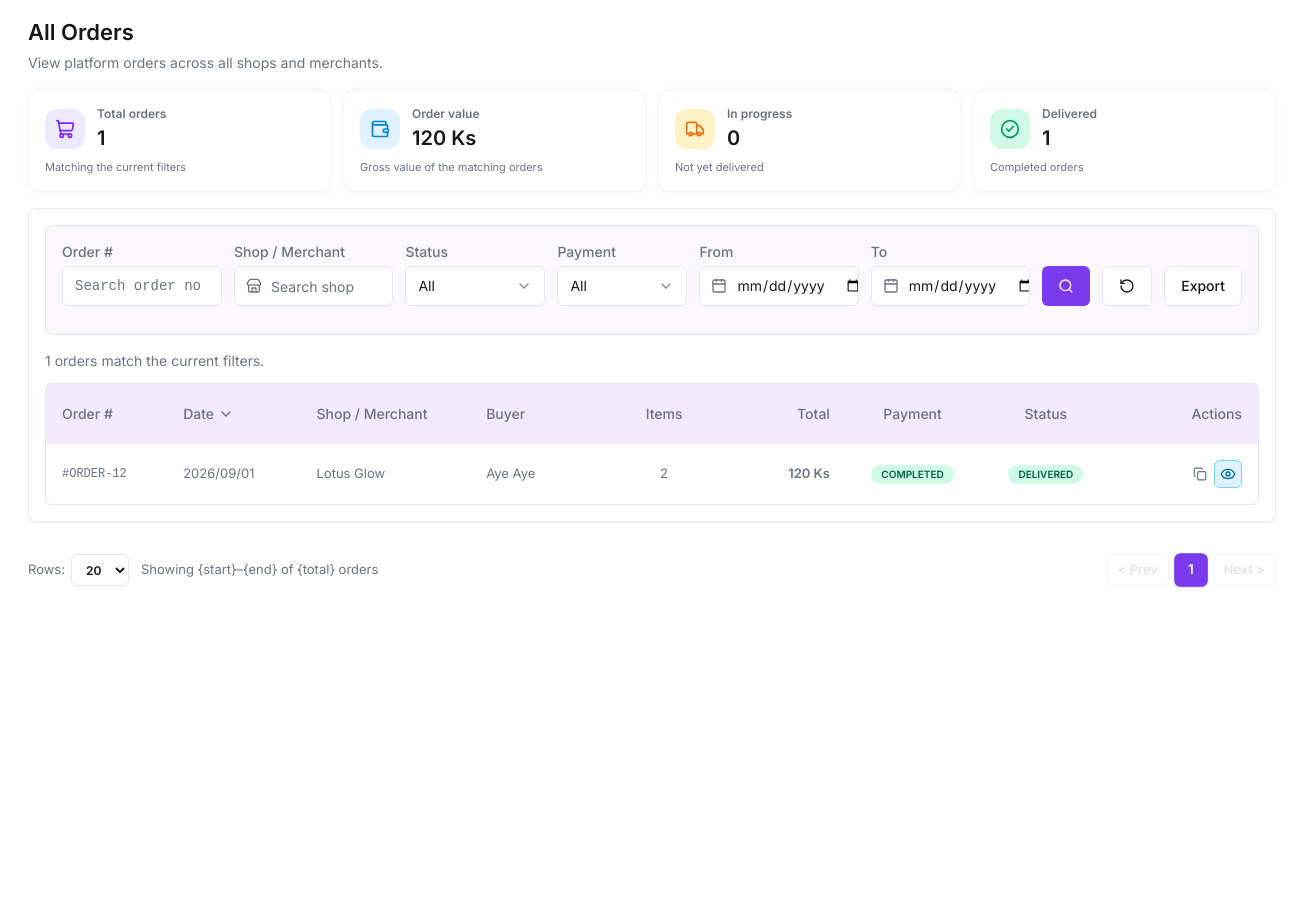
Test case: AdminOrdersPage › narrows the list by order number so the copied value has a destination
In the field labelled "Order #": x=142, y=286 [62,266,222,306], type "#A1B2C3D4"
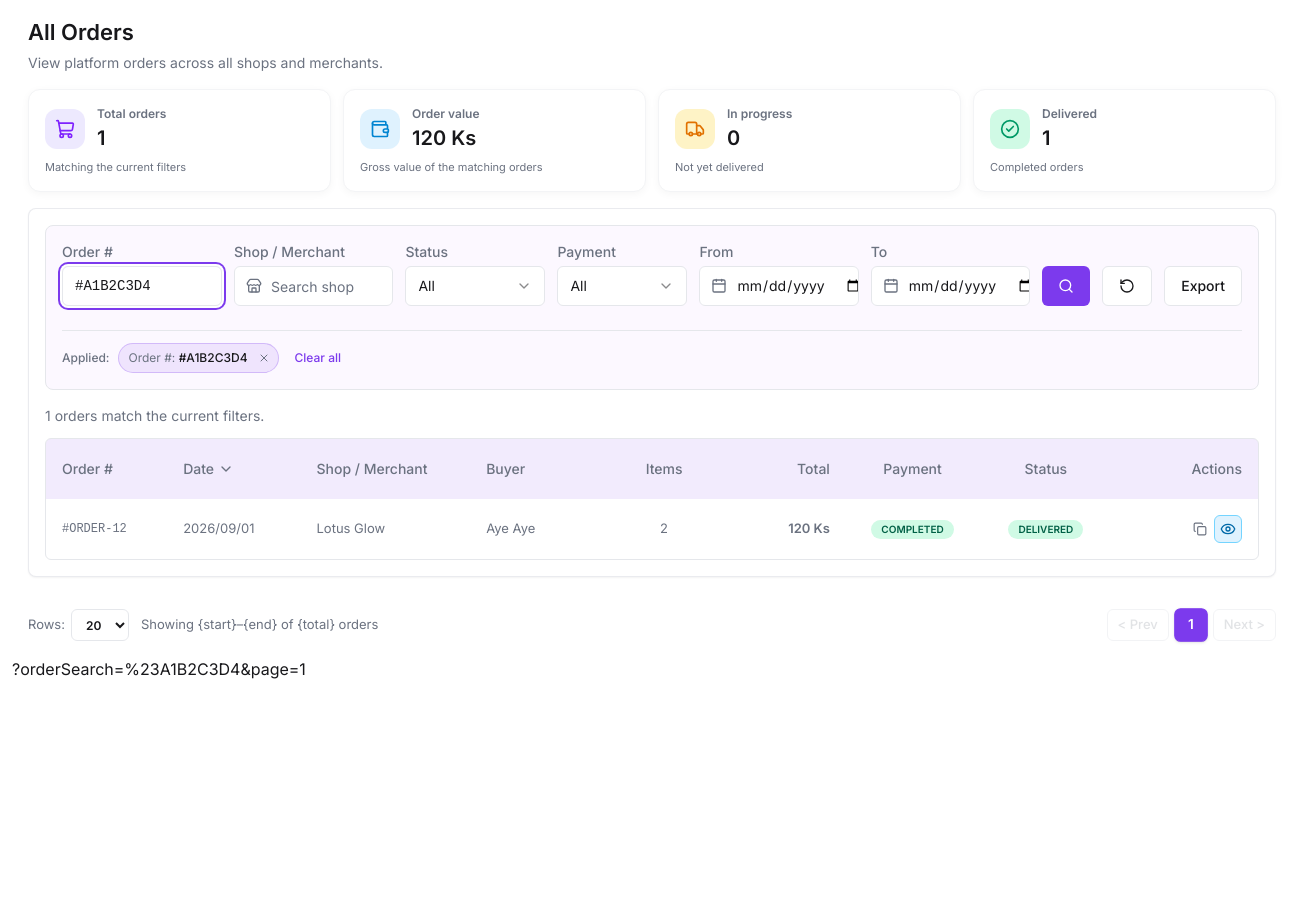
Check: the text "#A1B2C3D4" is shown, box [179,350,248,365]
Check: the button named "Remove filter: Order #" is shown, box [254,348,274,368]
